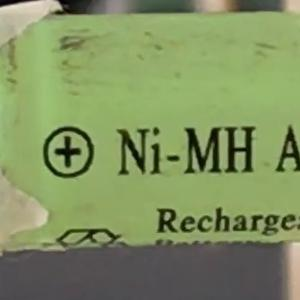keyword: (107, 116, 259, 185)
